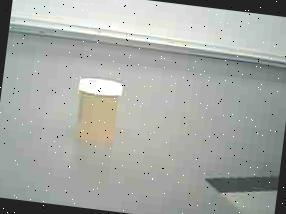Bottle B: (63, 69, 133, 153)
